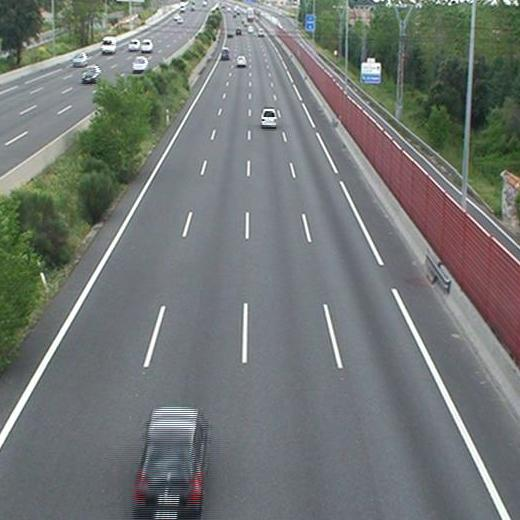car: (135, 409, 204, 516), (262, 109, 277, 127), (236, 56, 246, 65)
van: (221, 48, 229, 59)
